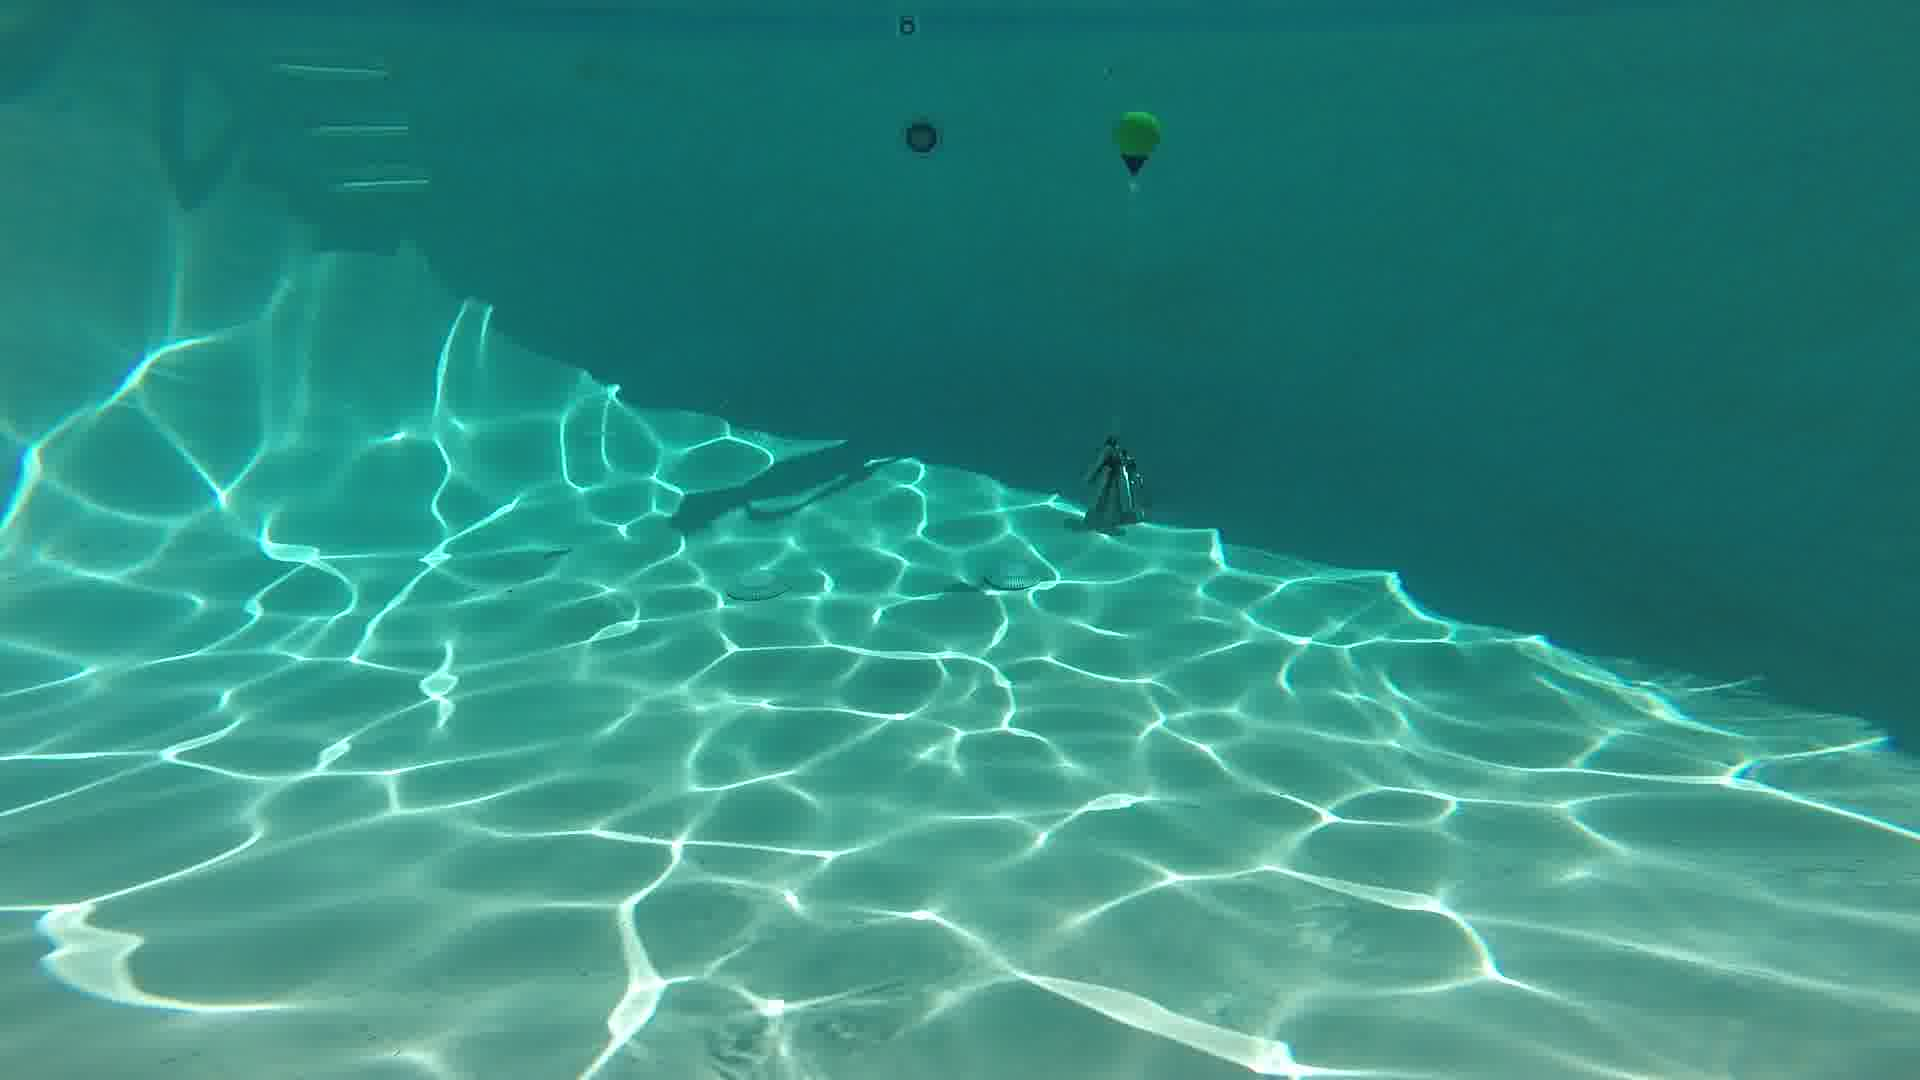yellow_buoy: (1116, 111, 1156, 178)
